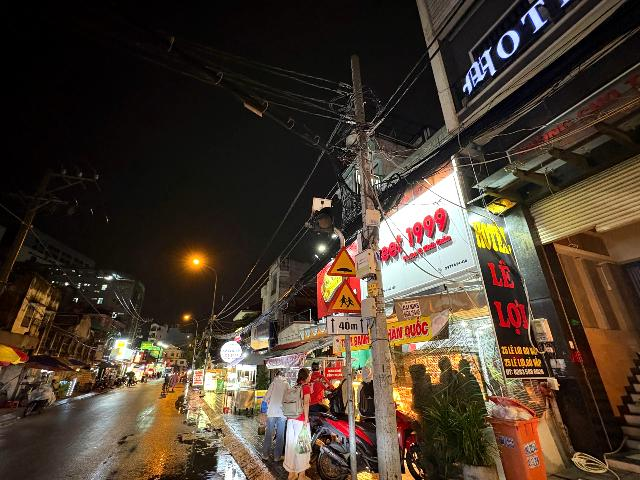duong-co-go-giam-toc: (327, 246, 356, 277)
tre-em-qua-duong: (328, 278, 362, 314)
